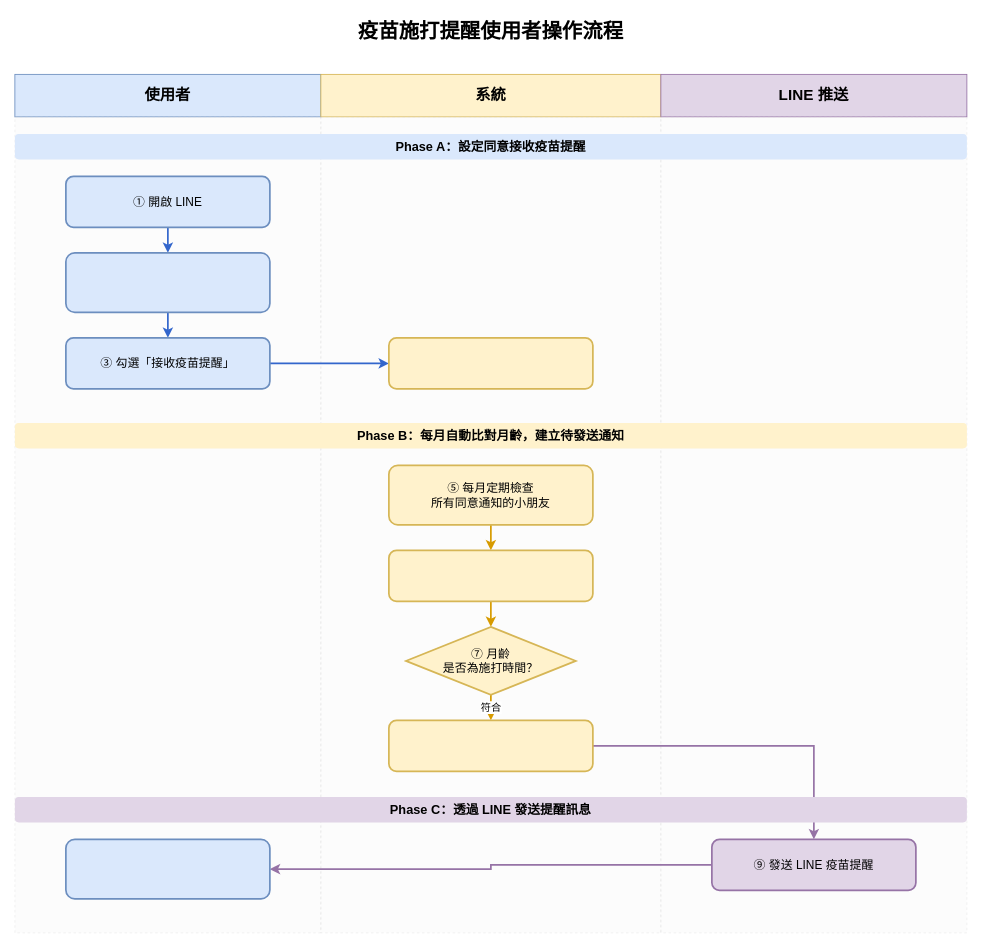
The diagram is 982 pixels wide and 948 high, and some of its shapes have lost their labels. The centre of each missing label's shape, as x and y in pixels:
"② 填寫小朋友資料 （姓名、生日、體重）" goes at [167,282].
"④ 儲存同意設定" goes at [490,363].
"⑥ 依出生年月推算目前月齡" goes at [490,575].
"⑧ 建立待發送的 疫苗提醒紀錄" goes at [490,745].
"⑩ 使用者收到 LINE 疫苗提醒訊息" goes at [167,868].
